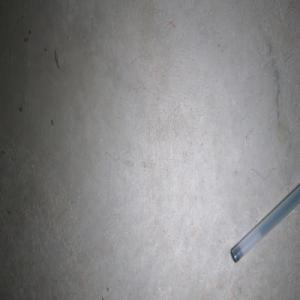Pen: (230, 184, 300, 262)
